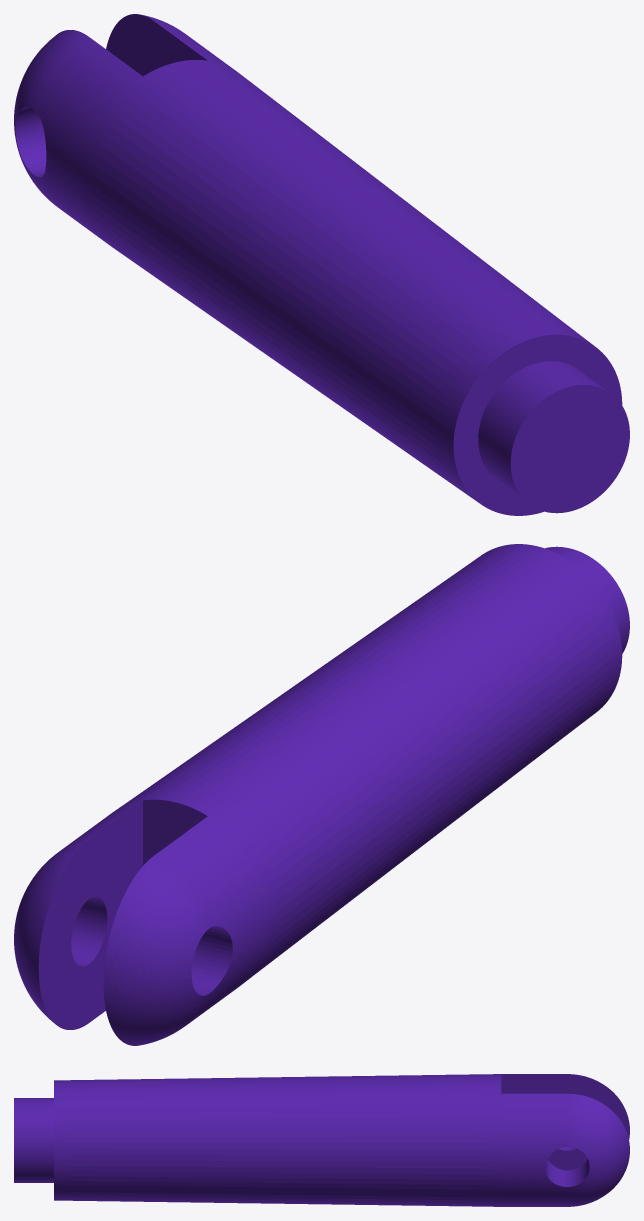
The picture shows the model from 3 angles, top to bottom: view 1: azimuth 30°, elevation 25°; view 2: azimuth 150°, elevation 25°; view 3: azimuth 270°, elevation 25°; orthographic projection. The views are drawn at different scales.
Parts seen in each view (by area): view 1: node; view 2: node; view 3: node.
Part boxes in pixels (x1,y1,x2,y2): node: [14, 14, 629, 515]; node: [14, 544, 629, 1045]; node: [14, 1074, 629, 1206].
Size of the model in its own units: 0.0743 by 0.0743 by 0.3444.
